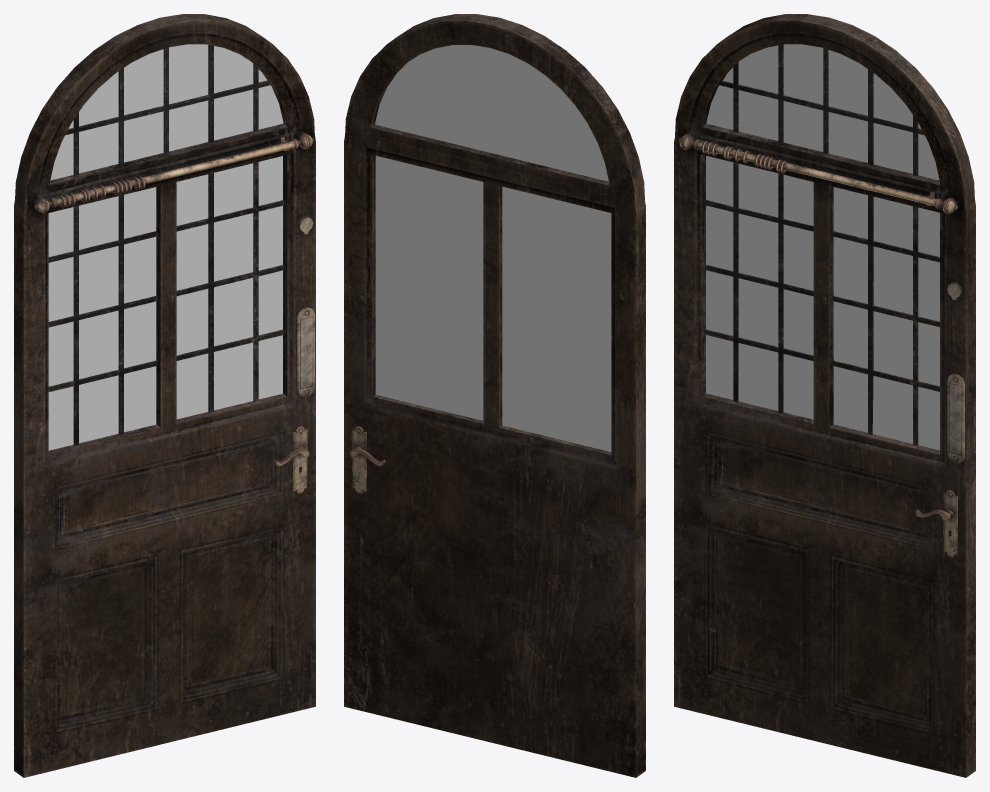
The model's file is Door.fbx.
3 views of the same model, side by side, from view 1: azimuth 30°, elevation 25°; view 2: azimuth 150°, elevation 25°; view 3: azimuth 330°, elevation 25° (orthographic).
Parts seen in each view (by area): view 1: SM_DoorWithGlass4_LOD0; view 2: SM_DoorWithGlass4_LOD0; view 3: SM_DoorWithGlass4_LOD0.
Part boxes in pixels (bbox=[...]): SM_DoorWithGlass4_LOD0: bbox=[14, 14, 315, 777]; SM_DoorWithGlass4_LOD0: bbox=[344, 14, 645, 777]; SM_DoorWithGlass4_LOD0: bbox=[674, 14, 975, 777].
Bounding box in the file's own units: 141 × 330 × 18.93.
